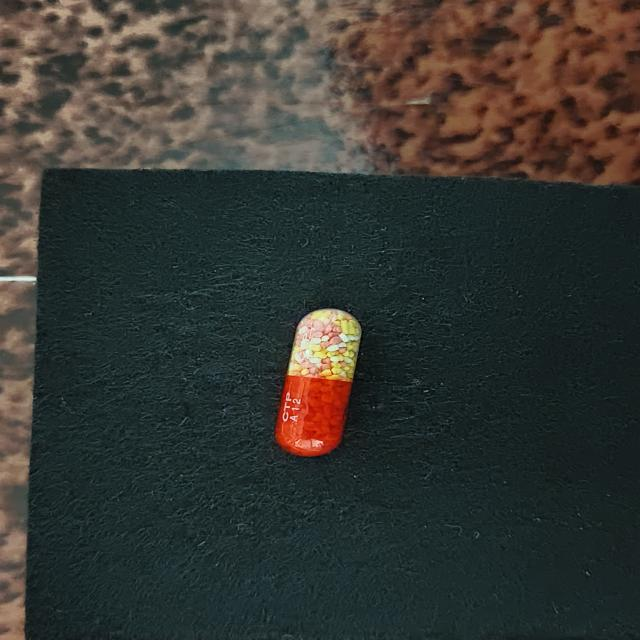Intact Capsule: (275, 308, 362, 456)
